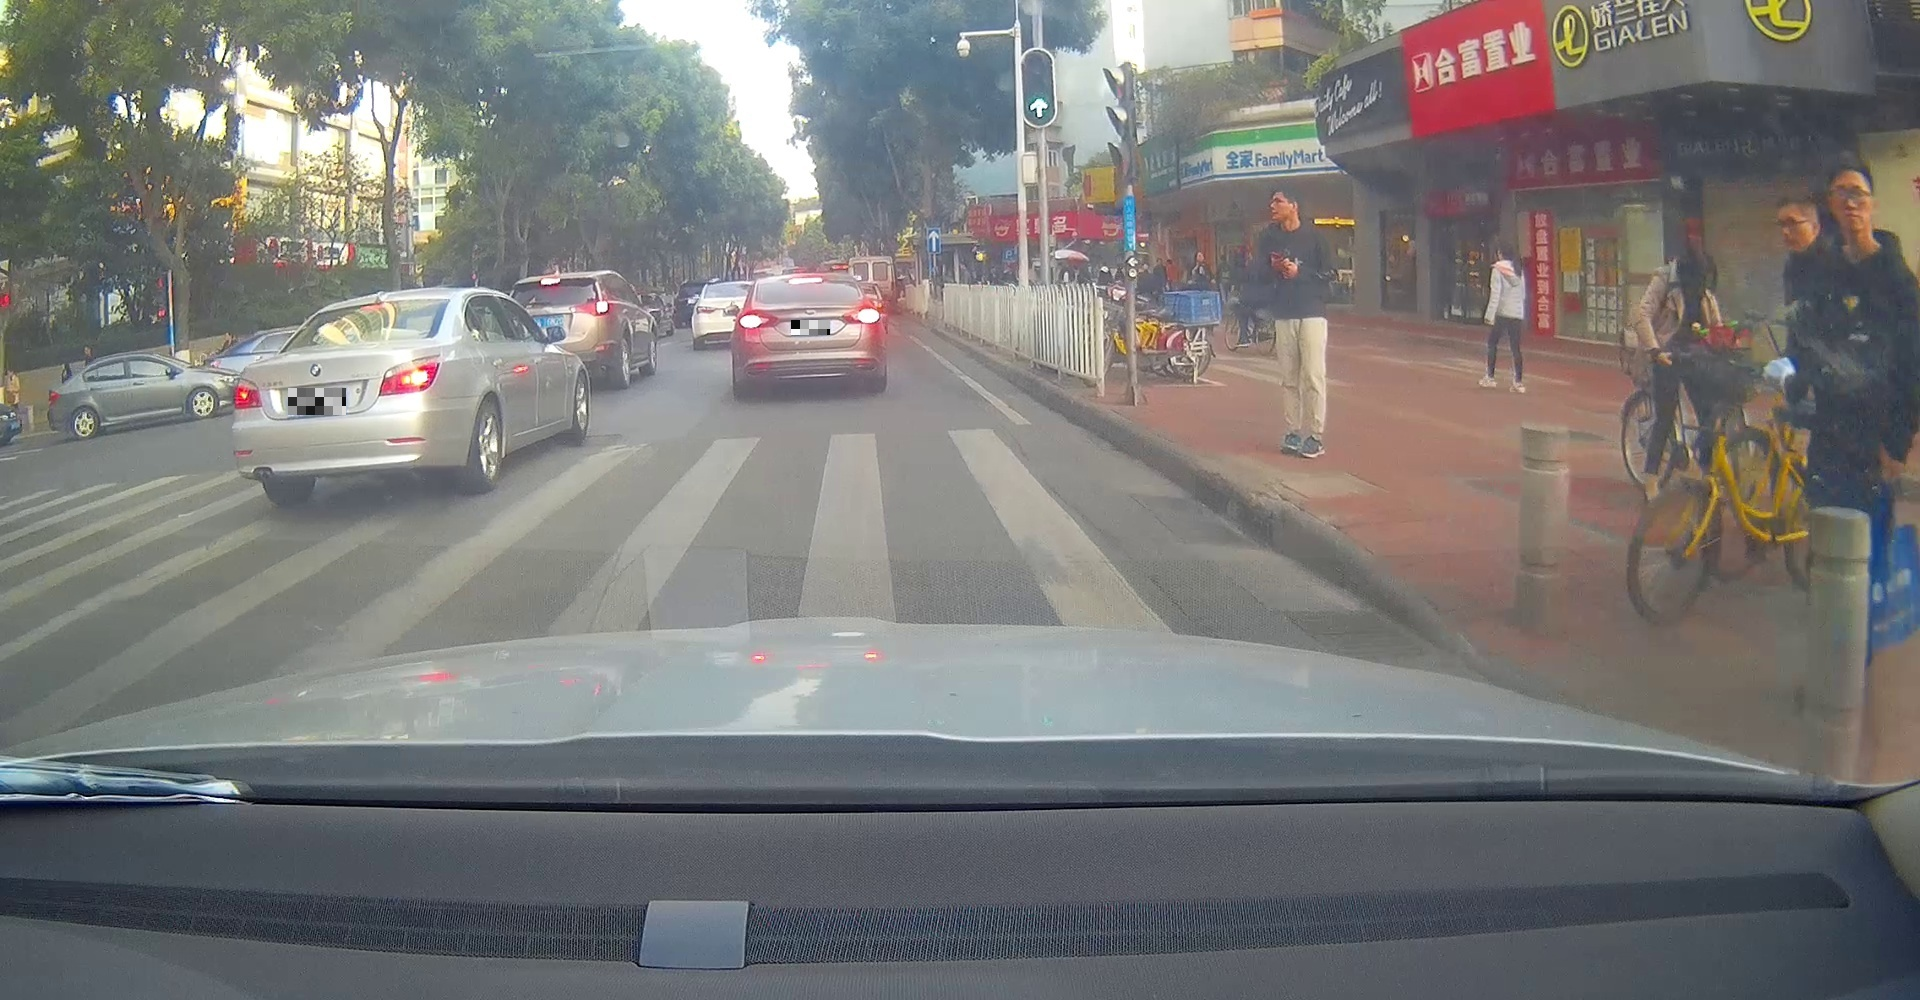L_light: (234, 378, 262, 409), (738, 312, 775, 329)
R_light: (378, 354, 441, 395), (842, 306, 881, 324)
T_light: (789, 275, 822, 286), (359, 305, 385, 313)
day-brake: (231, 288, 450, 506), (735, 273, 881, 397)
plate_1: (288, 388, 345, 415)
plate_2: (791, 320, 830, 335)
